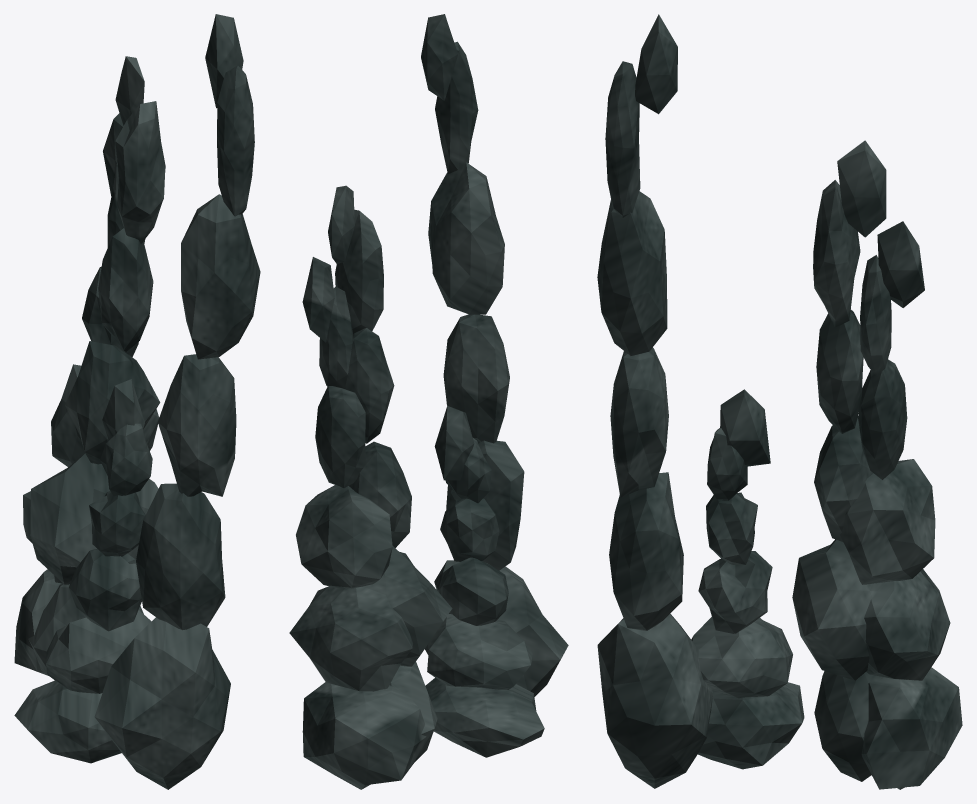
Rendered from 0056_rock_spire_06.glb.
3 renders of one model, left to right at view 1: azimuth 30°, elevation 25°; view 2: azimuth 150°, elevation 25°; view 3: azimuth 270°, elevation 25°, orthographic. The views are drawn at different scales.
Visible parts, largest first — view 1: stone_dark; view 2: stone_dark; view 3: stone_dark.
Part boxes in pixels (box(x1,y1,x2,y2)): stone_dark: box(14, 14, 260, 789); stone_dark: box(289, 14, 568, 789); stone_dark: box(597, 14, 962, 789).
Size of the model in its own units: 1.09 by 4.12 by 1.7.
1 material, 1 textured.
